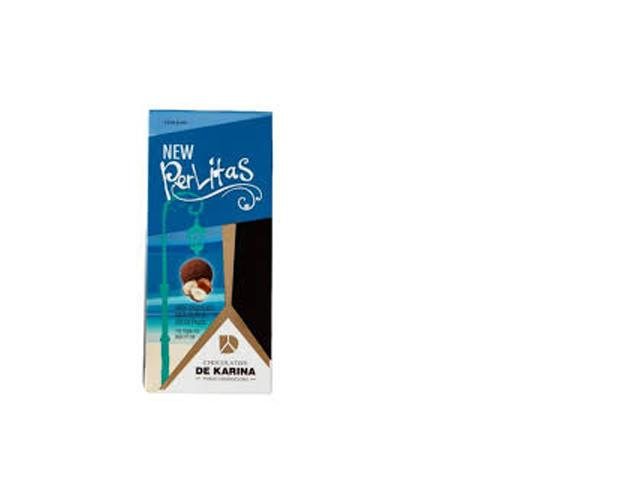chocolate: (139, 104, 280, 400)
